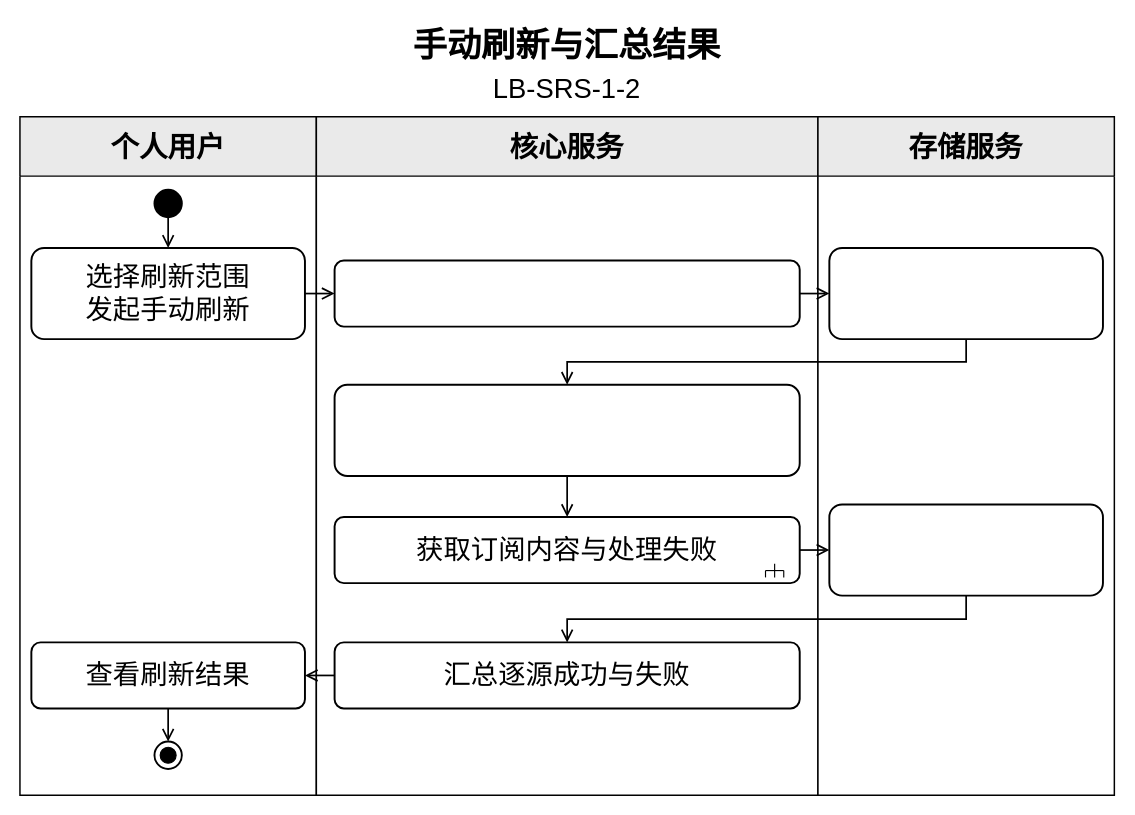
Some shapes in this 1135 by 815 pixel diagram are drawn without their labels. Each missing label, with the centre of its shape:
"接收访问请求" goes at pixel 566 293.
"记录逐源结果 及新增数量" goes at pixel 965 549.
"读取范围内 来源配置" goes at pixel 965 293.
"选取有效来源 合并同源并发请求" goes at pixel 566 429.
